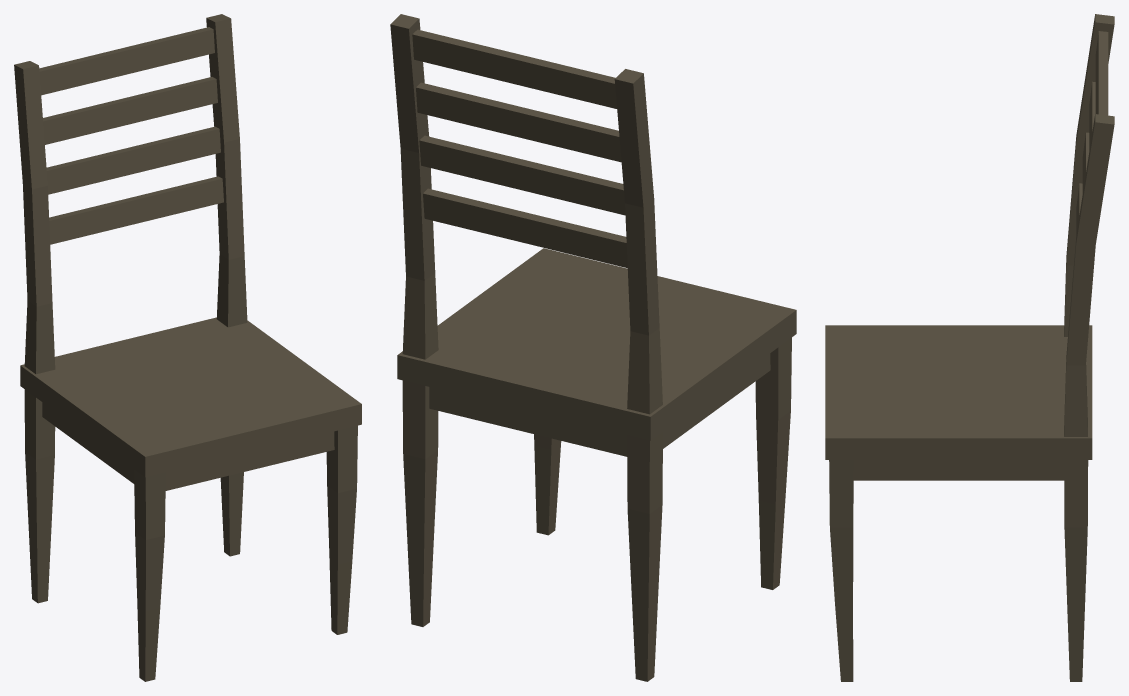
The model's file is home_chair_1.fbx.
The picture shows the model from 3 angles, left to right: view 1: azimuth 30°, elevation 25°; view 2: azimuth 150°, elevation 25°; view 3: azimuth 270°, elevation 25°; orthographic projection. The views are drawn at different scales.
Visible parts, largest first — view 1: home_chair_1; view 2: home_chair_1; view 3: home_chair_1.
Part boxes in pixels (<box>): home_chair_1: <box>14,14,361,681</box>; home_chair_1: <box>390,14,796,681</box>; home_chair_1: <box>825,14,1114,681</box>.
Size of the model in its own units: 0.3878 by 0.9 by 0.4202.
